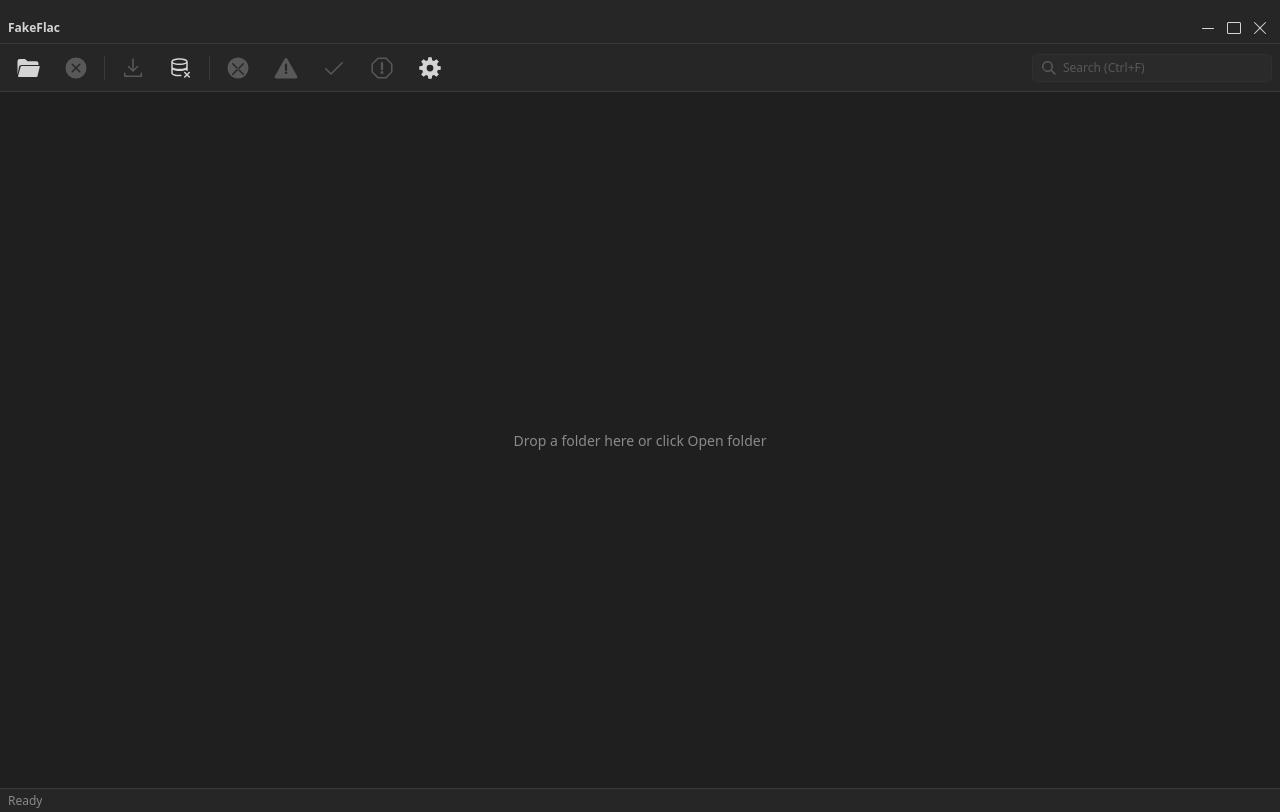
screen state: Error › NO_AUDIO_FOUND before the run starts shows its text
Check: the element named "Main toolbar" is shown, box [0, 44, 1279, 92]
Click the button named "Open folder": (28, 68) [8, 48, 48, 88]
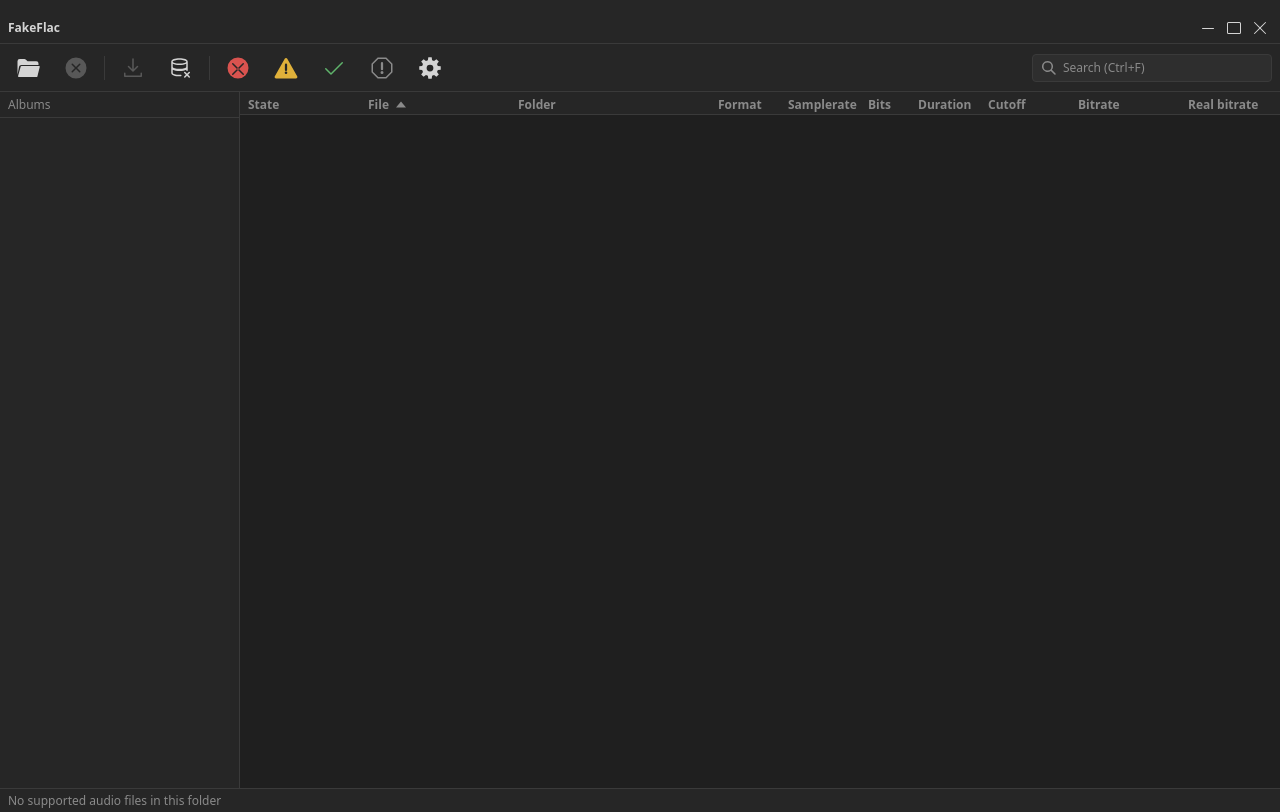
Check: the button named "Cancel" is disabled, box [56, 48, 96, 88]
Check: the text "No supported audio files in this folder" is shown, box [8, 792, 221, 809]
